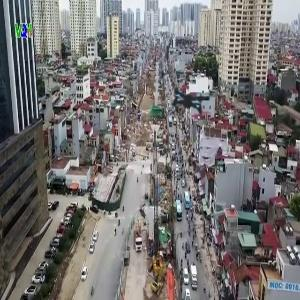drone: (145, 62, 232, 149)
